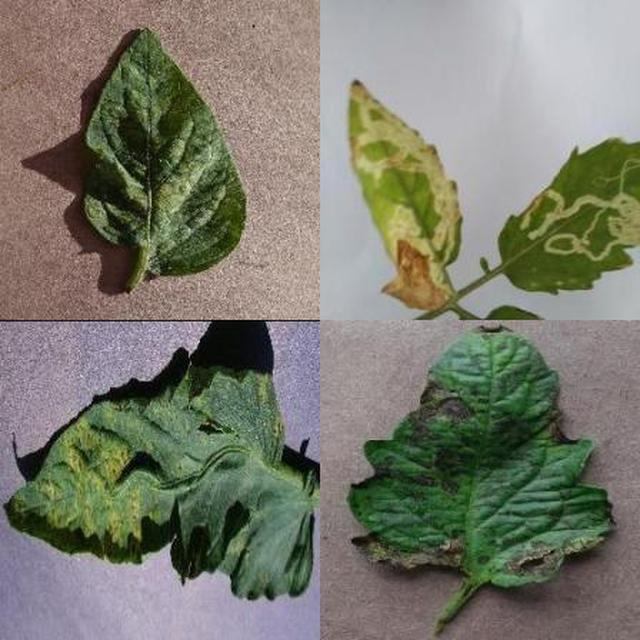Spider Mites Leaf: (167, 214, 640, 640)
